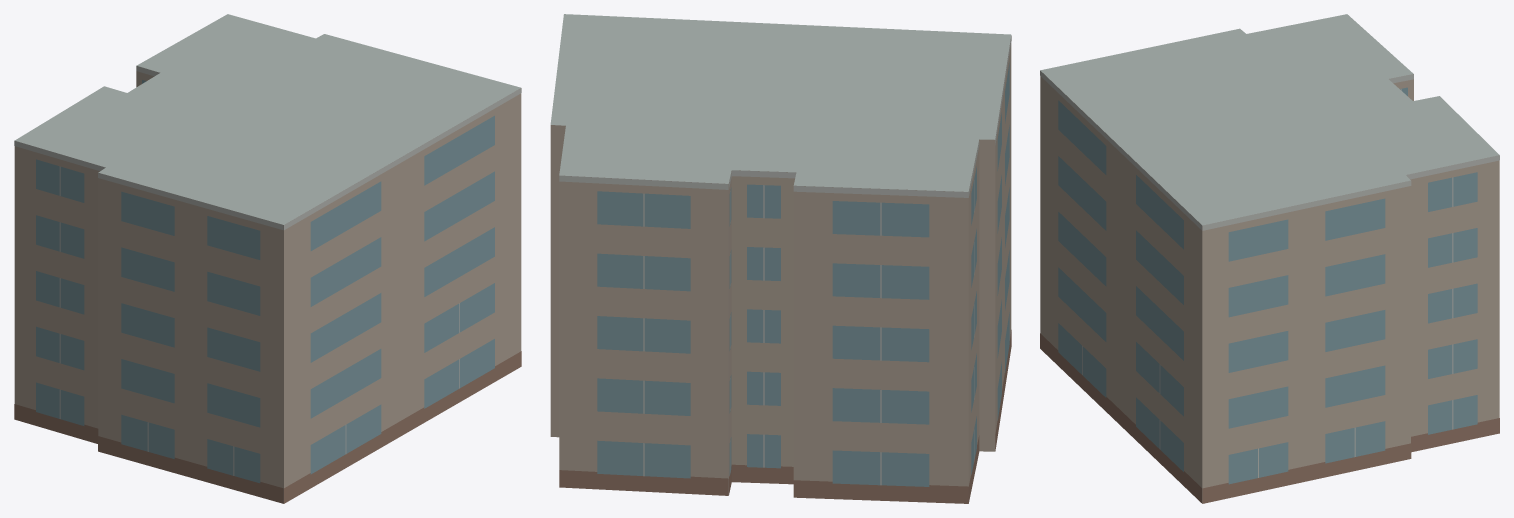
The model's file is survey-upis-32963373.glb.
3 renders of one model, left to right at view 1: azimuth 30°, elevation 25°; view 2: azimuth 150°, elevation 25°; view 3: azimuth 270°, elevation 25°, orthographic. The views are drawn at different scales.
Parts seen in each view (by area): view 1: survey-upis-32963373.tmp; view 2: survey-upis-32963373.tmp; view 3: survey-upis-32963373.tmp.
Boxes of the visible parts, x1,y1,x2,y2 form: survey-upis-32963373.tmp: [14, 14, 521, 503]; survey-upis-32963373.tmp: [550, 14, 1011, 503]; survey-upis-32963373.tmp: [1040, 14, 1499, 503].
Bounding box in the file's own units: 20.63 × 12.65 × 18.94.
